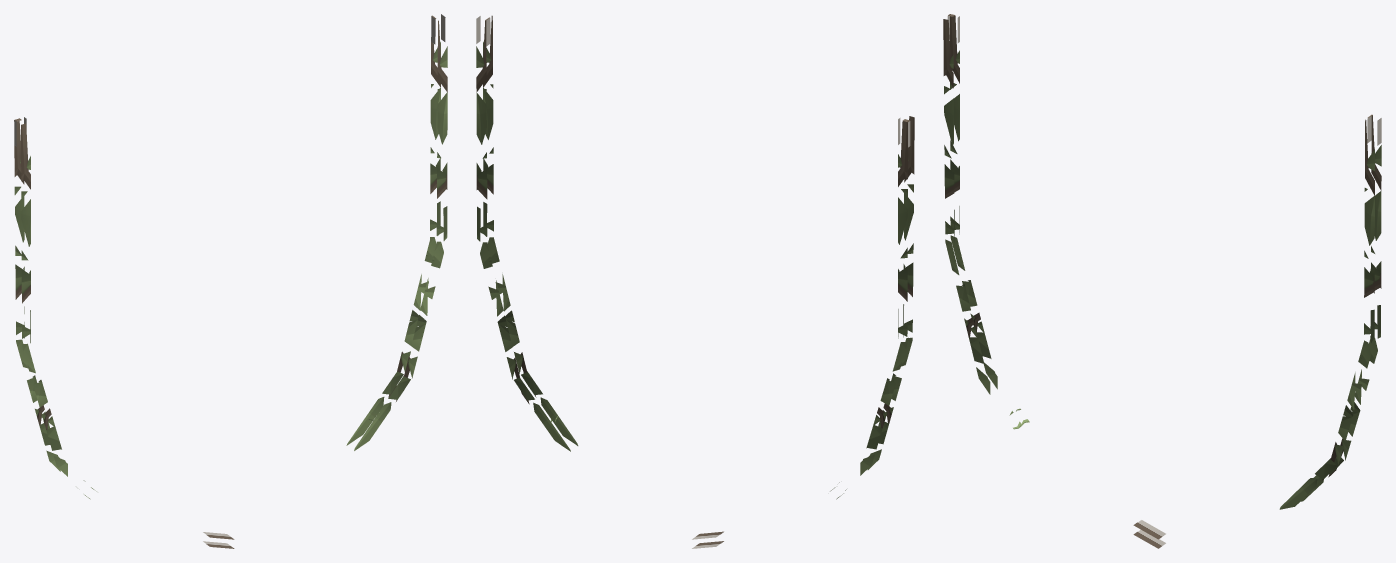
File: synty-tree-vines-01.gltf
3 renders of one model, left to right at view 1: azimuth 30°, elevation 25°; view 2: azimuth 150°, elevation 25°; view 3: azimuth 330°, elevation 25°, orthographic.
Parts seen in each view (by area): view 1: SM_Tree_Vines_01; view 2: SM_Tree_Vines_01; view 3: SM_Tree_Vines_01.
Boxes of the visible parts, x1,y1,x2,y2 form: SM_Tree_Vines_01: [14, 14, 447, 548]; SM_Tree_Vines_01: [476, 15, 914, 548]; SM_Tree_Vines_01: [943, 14, 1381, 548].
Bounding box in the file's own units: 1.56 × 1.66 × 0.0566.
Materials: 1 (1 with a texture image).
